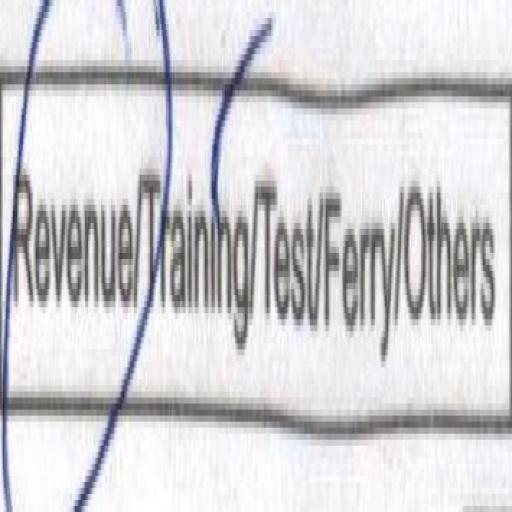check: (0, 0, 137, 512), (142, 2, 255, 512)
